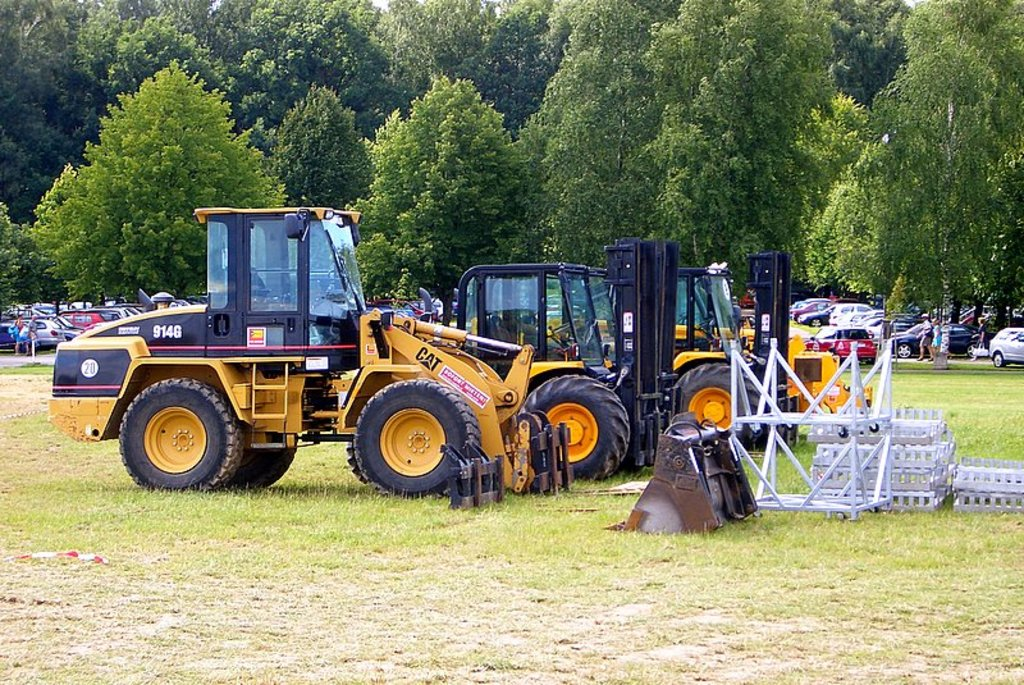Car: (791, 293, 1022, 366), (0, 286, 167, 354), (363, 286, 456, 323), (802, 327, 876, 366), (518, 291, 586, 320), (988, 329, 1022, 370)
